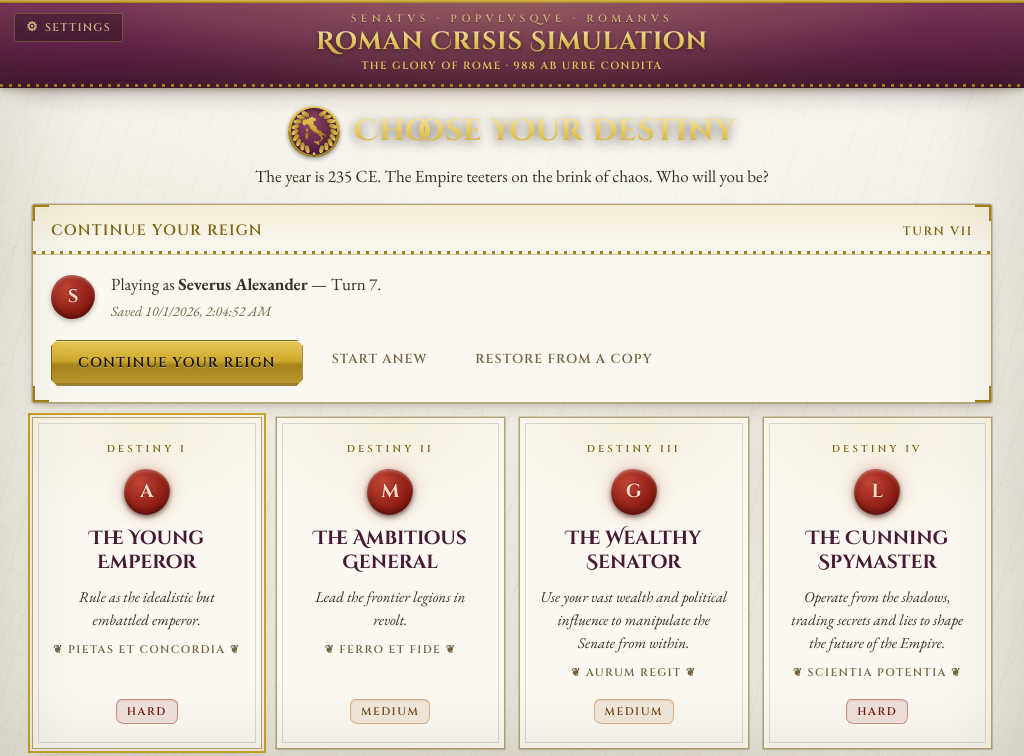
Test: state-destiny-click-overwrites-saved-reign: a destiny over a saved reign asks first › asks the Abandon question on a preset, keeps the slot on "Keep my reign", and returns focus to the destiny
The width and height of the screenshot is (1024, 756).
Click the 5th button at coordinates (147, 583), box [32,417,262,749]
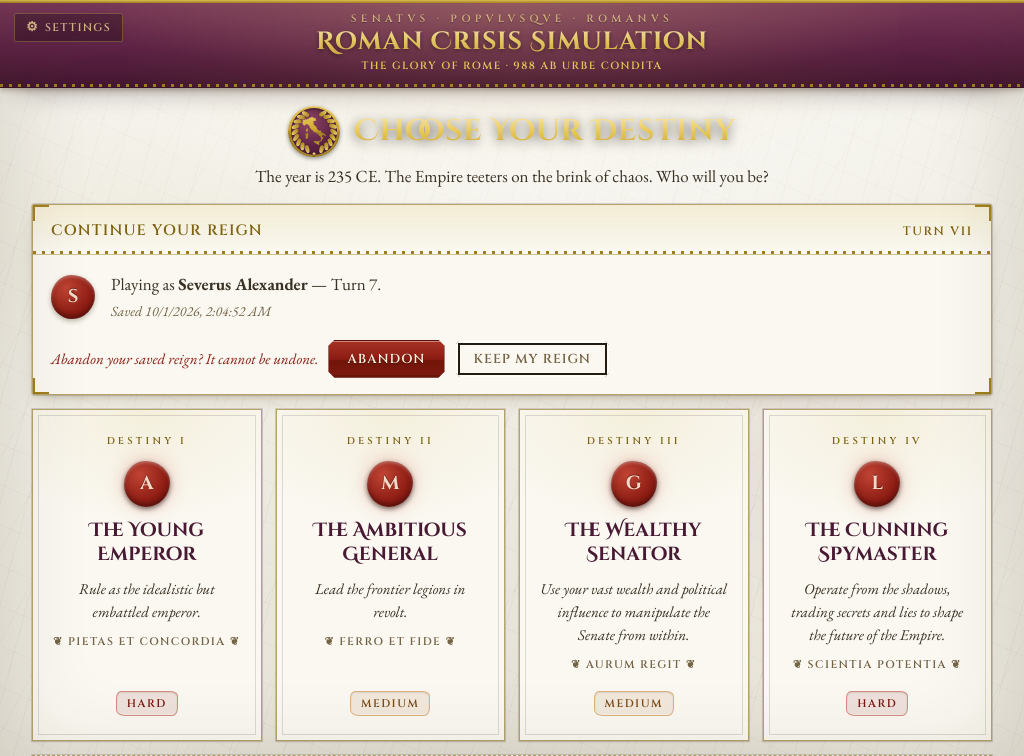
Expected: the text "Abandon your saved reign?" is shown, [51,349,318,368]
Expected: the button "Keep my reign" is shown
Click the button "Keep my reign" at coordinates (532, 359), box [454,340,610,378]
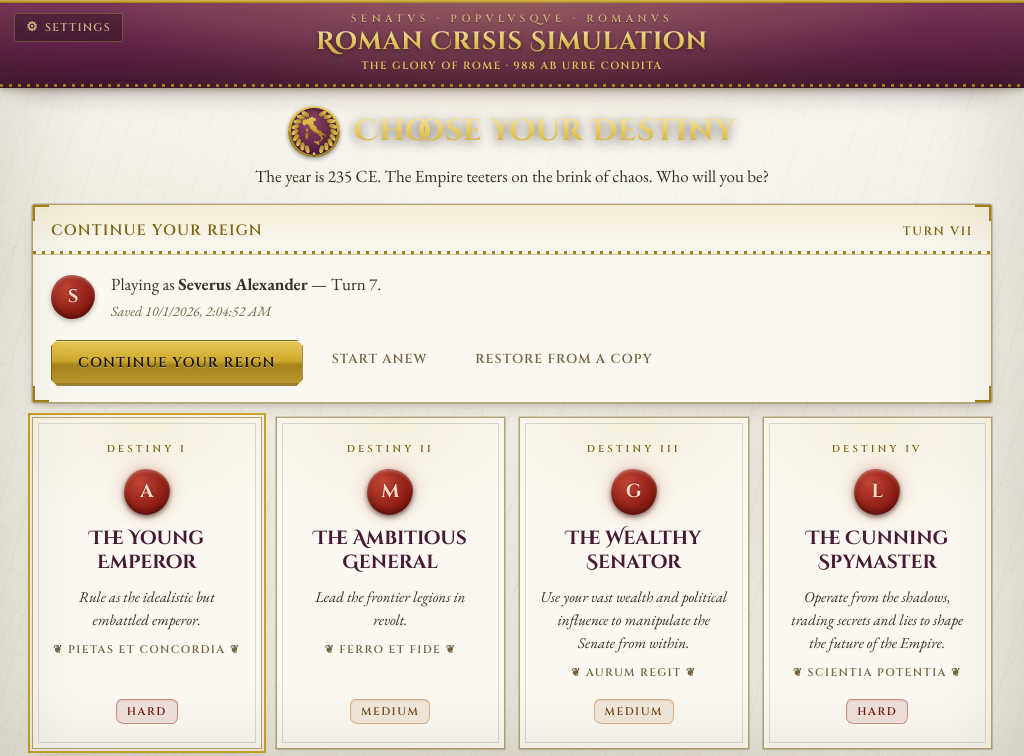
Expected: the text "Abandon your saved reign?" is gone
